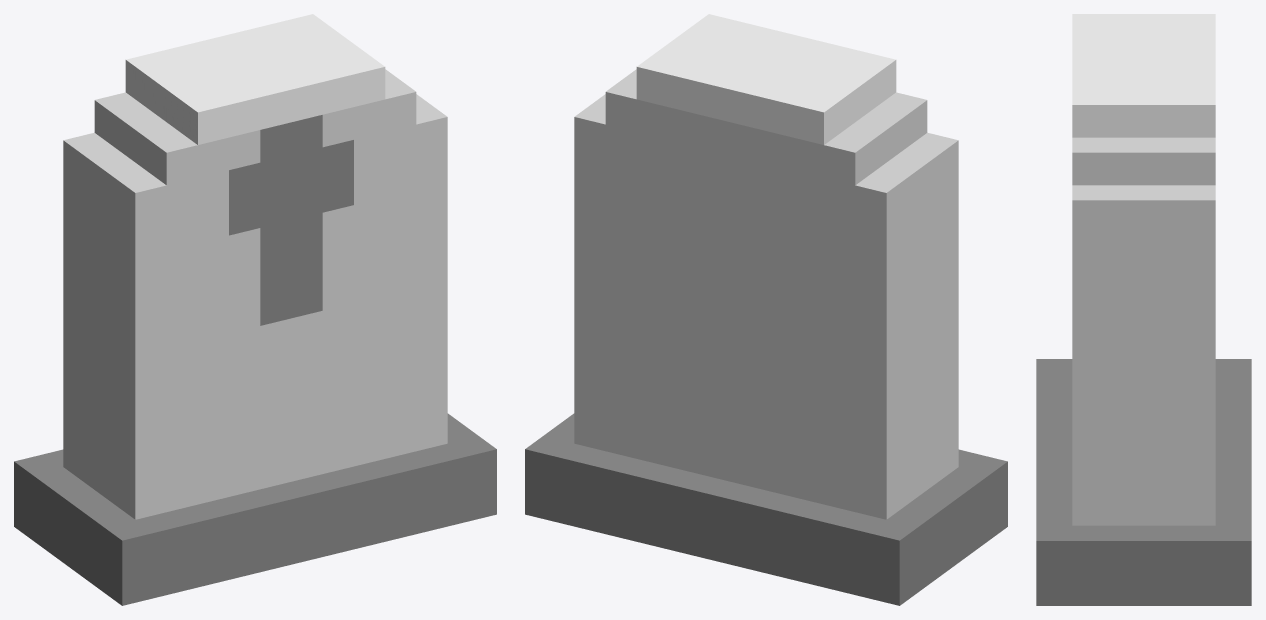
The model's file is heap_GRAVE.glb.
3 renders of one model, left to right at view 1: azimuth 30°, elevation 25°; view 2: azimuth 150°, elevation 25°; view 3: azimuth 270°, elevation 25°, orthographic.
Parts seen in each view (by area): view 1: item_HEAP_GRAVE; view 2: item_HEAP_GRAVE; view 3: item_HEAP_GRAVE.
Boxes of the visible parts, x1,y1,x2,y2 form: item_HEAP_GRAVE: [14, 14, 496, 605]; item_HEAP_GRAVE: [525, 14, 1007, 605]; item_HEAP_GRAVE: [1036, 14, 1251, 605].
Bounding box in the file's own units: 0.2727 × 0.3182 × 0.1364.
Materials: 1 (1 with a texture image).
